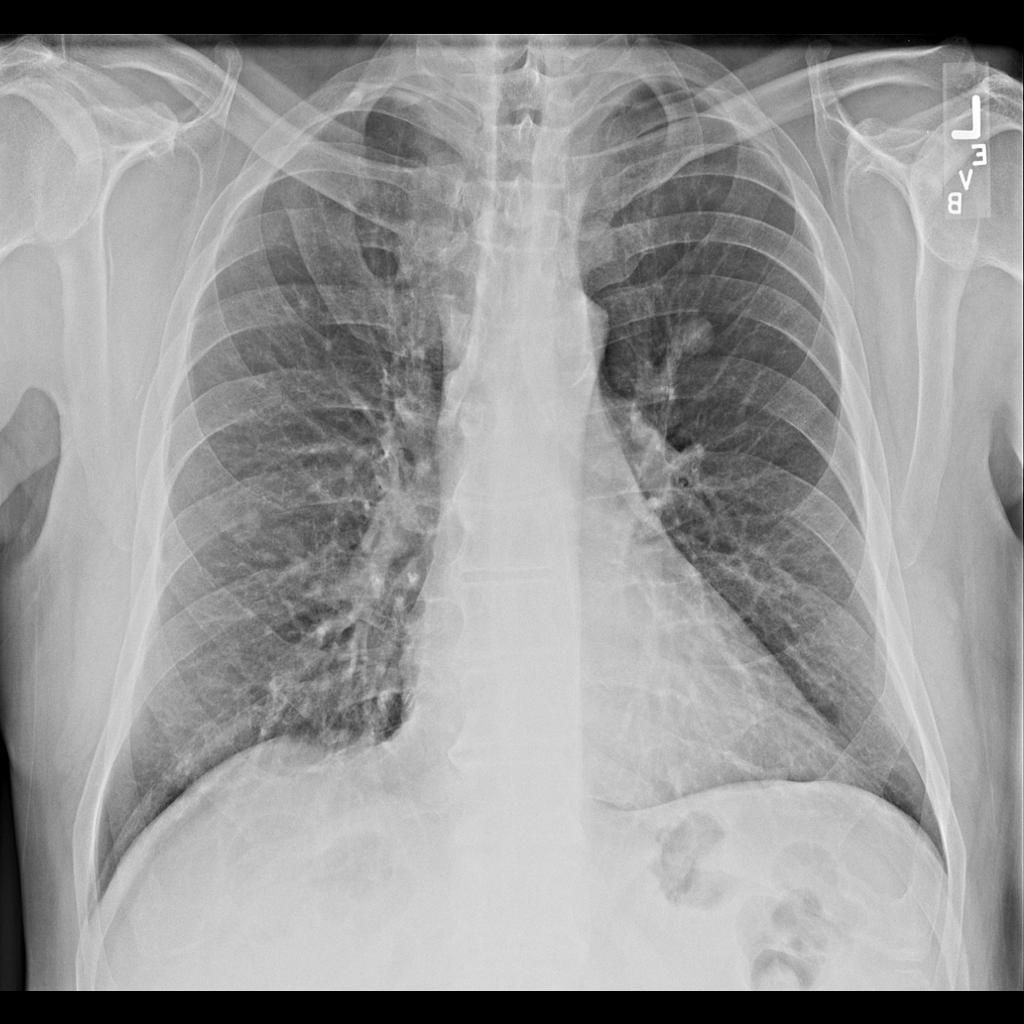Nodule: (673, 313, 722, 365)
